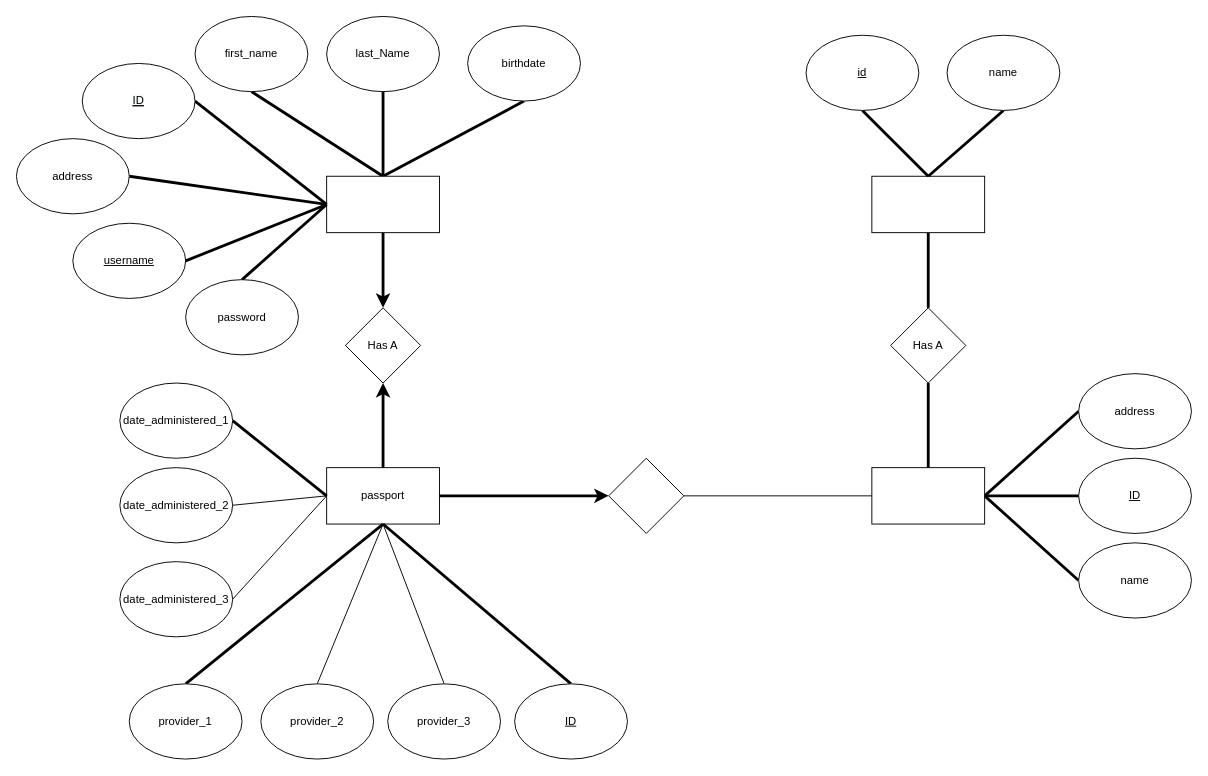
Some shapes in this 1208 by 776 pixel diagram are drawn without their labels. Each missing label, with the box of its shape:
account: (326, 175, 439, 233)
facility: (871, 467, 985, 524)
provider: (871, 175, 985, 233)
records: (608, 457, 684, 533)
